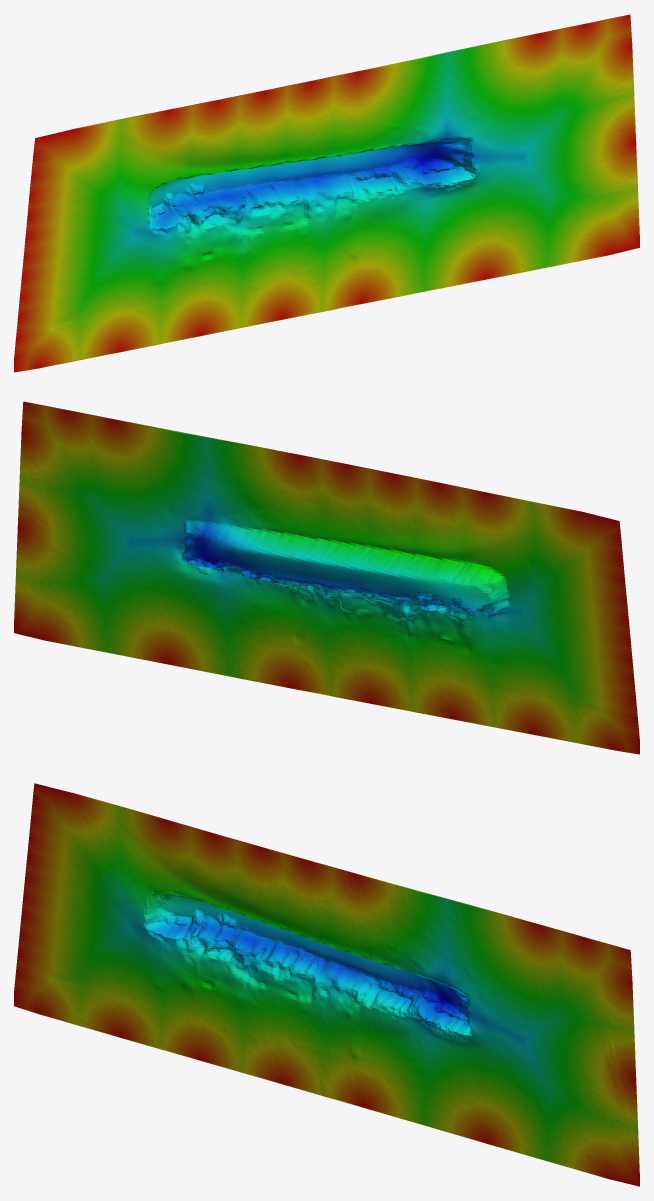
The model's file is skytteren.dae.
3 views of the same model, one above another, from view 1: azimuth 30°, elevation 25°; view 2: azimuth 150°, elevation 25°; view 3: azimuth 330°, elevation 25° (orthographic).
Visible parts, largest first — view 1: node; view 2: node; view 3: node.
Boxes of the visible parts, x1,y1,x2,y2 form: node: (14,14,639,372); node: (14,401,639,754); node: (14,783,639,1186).
Bounding box in the file's own units: 332 × 131 × 17.78.
